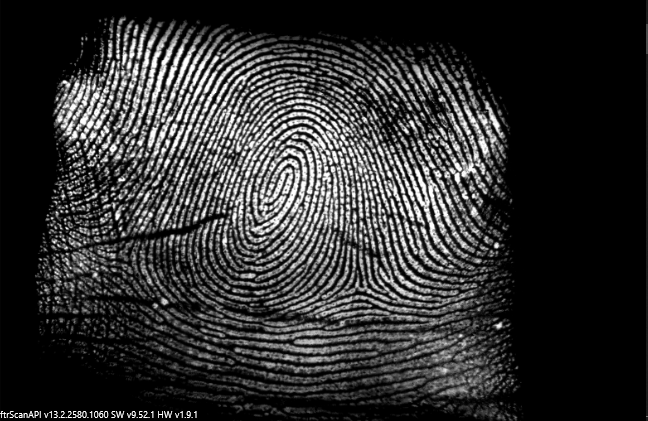nucelo: (268, 157, 300, 206)
verticilo: (341, 279, 370, 297), (116, 247, 137, 268)
